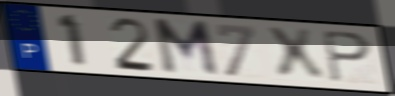1: (55, 13, 93, 69)
2: (107, 16, 156, 74)
7: (213, 23, 260, 79)
M: (150, 17, 223, 79)
P: (320, 29, 375, 85)
X: (263, 26, 330, 83)
